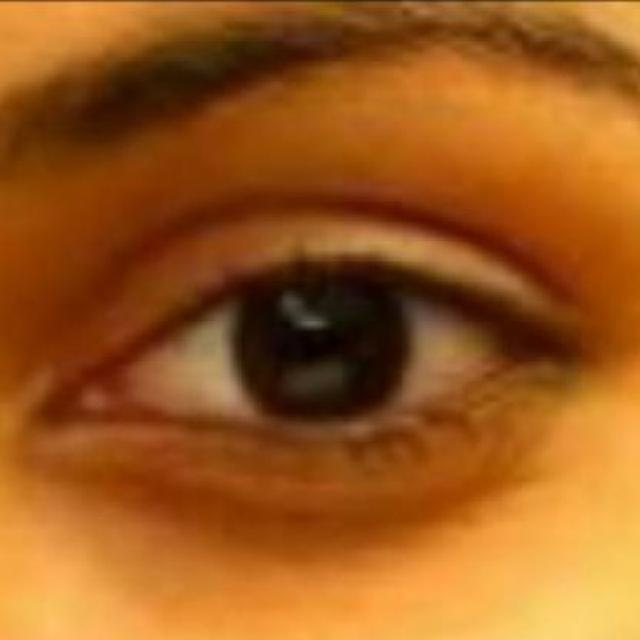awake: (46, 209, 563, 496)
